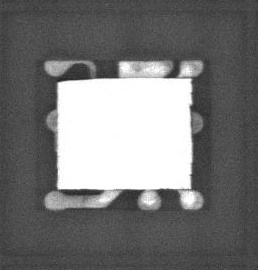DIE_BROKEN: (187, 78, 194, 186), (57, 78, 94, 83)
